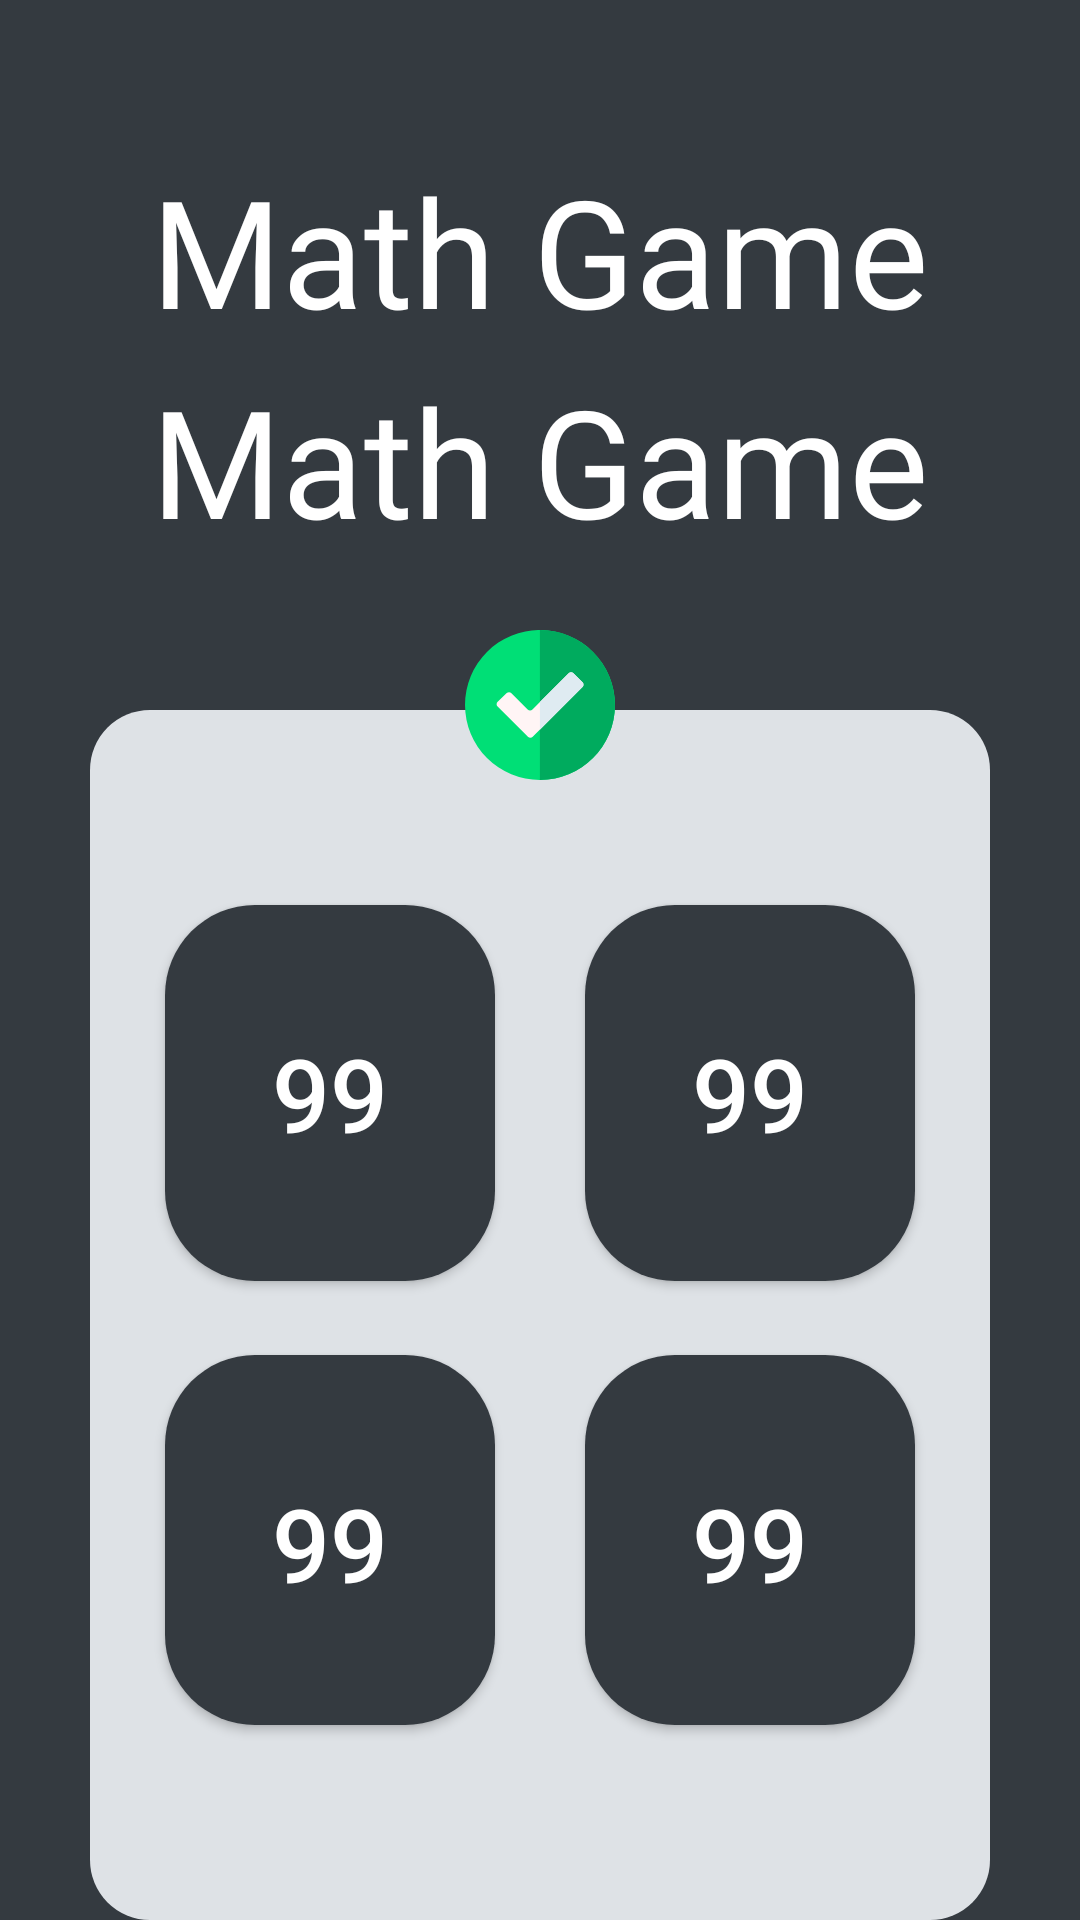

Point at icon controls on the screen. Image size 1080x1920, points as (x,y).
check: (540,705)
